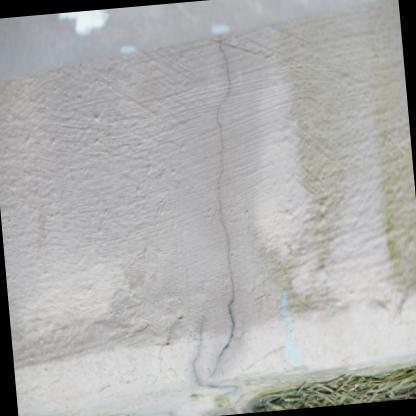crack: (209, 33, 238, 378)
